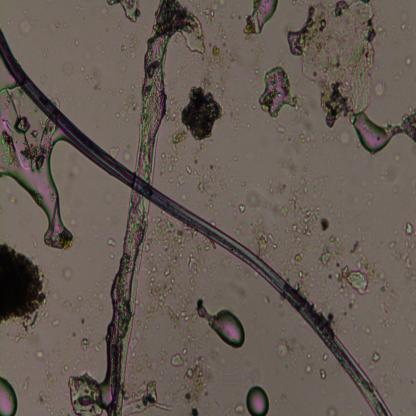Air bubble: (0, 132, 74, 250), (352, 110, 404, 156), (198, 306, 246, 350), (244, 1, 278, 35), (0, 375, 20, 416), (246, 384, 270, 415)
Background material: (285, 0, 375, 121), (282, 177, 341, 283), (148, 213, 200, 309), (0, 240, 49, 332), (156, 144, 221, 197), (54, 262, 101, 330), (24, 344, 75, 401), (180, 82, 224, 142), (172, 349, 206, 414), (340, 260, 390, 304), (204, 19, 237, 83), (126, 304, 154, 376), (242, 176, 284, 222), (261, 67, 298, 117), (67, 370, 108, 414), (124, 378, 169, 416), (166, 302, 199, 352), (389, 222, 416, 279), (275, 121, 314, 157), (108, 84, 138, 122), (232, 97, 259, 137), (107, 0, 143, 25), (252, 223, 278, 257), (278, 337, 303, 368), (120, 30, 137, 68), (81, 68, 111, 88), (396, 5, 413, 40), (11, 14, 36, 35), (225, 259, 245, 281), (42, 18, 69, 34), (92, 6, 110, 27), (59, 56, 76, 74), (231, 399, 246, 416), (32, 346, 46, 362), (107, 143, 121, 159), (92, 332, 102, 354), (370, 349, 382, 364), (80, 336, 90, 353), (324, 408, 345, 416), (403, 55, 414, 69), (236, 204, 246, 218), (74, 37, 83, 52), (304, 363, 314, 376), (107, 237, 117, 250), (319, 367, 327, 381)
Cellulose filter fibre: (104, 1, 206, 415)
Microfibre: (0, 26, 390, 415)
